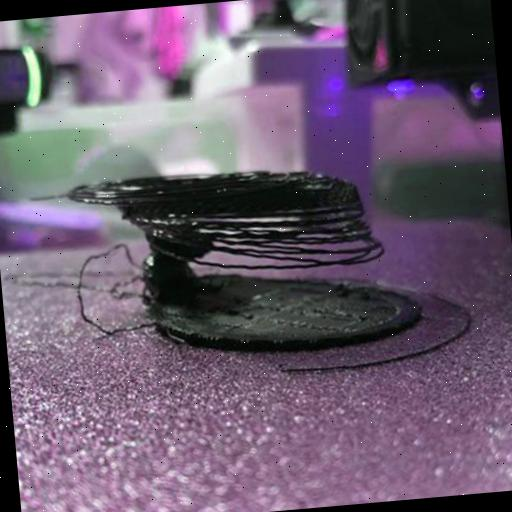spaghetti: (148, 203, 387, 282), (72, 237, 158, 338), (26, 192, 70, 206)
